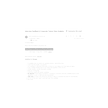

The dashboard page shown, as its layout file describes it:
{"tool":"powerbi","page":{"name":"Page 1","canvas":[1280,720],"ordinal":0},"visuals":[{"type":"group","id":"g1","title":"Group 2","box":[321.7,0,943.3,249.2],"z":0},{"type":"cardVisual","fields":{"Data":["Course.Total Courses"]},"box":[321.9,0,237.7,124.9],"z":0,"group":"g1"},{"type":"slicer","fields":{"Values":["Trainer.TrainerName"]},"box":[34.3,174.2,279.7,150],"z":0,"group":"g2"},{"type":"cardVisual","fields":{"Data":["Course.Total Mocks"]},"box":[549.9,0,238.4,124.9],"z":1000,"group":"g1"},{"type":"textbox","box":[25.4,36.9,296.2,50.9],"z":1000},{"type":"slicer","fields":{"Values":["Course.CourseName"]},"box":[34.3,339.5,279.7,255.5],"z":1000,"group":"g2"},{"type":"cardVisual","fields":{"Data":["Course.Trainer-Course Validated"]},"box":[788.3,0,238.4,124.9],"z":2000,"group":"g1"},{"type":"group","id":"g2","title":"Group 1","box":[34.3,174.2,279.7,507.3],"z":2000},{"type":"slicer","fields":{"Values":["TrainerCourseMapping.MappingStatus"]},"box":[34.3,610.3,279.7,71.2],"z":2000,"group":"g2"},{"type":"cardVisual","fields":{"Data":["Course.Avg Mocks per Trainer-Course"]},"box":[1026.7,0,238.4,124.9],"z":3000,"group":"g1"},{"type":"pivotTable","fields":{"Rows":["Trainer.TrainerName","Course.CourseName"],"Values":["Course.Total Mocks","Course.Latest Activity Type","Course.Latest Mock Summary"]},"box":[338.2,249.2,942.1,443.7],"z":3000},{"type":"cardVisual","fields":{"Data":["Course.Latest Mock Rating"]},"box":[321.7,124.6,943.3,124.6],"z":4000,"group":"g1"}]}

Visuals, with their boxes on the page's 1280x720 design canvas (x1, y1, x2, y2). These are canvas units, not pixel positions in the 108x108 screenshot, which may show the page scaled, cropped or inside an application window:
"Group 2" group: <box>322,0,1265,249</box>
cardVisual - Course.Total Courses: <box>322,0,560,125</box>
slicer - Trainer.TrainerName: <box>34,174,314,324</box>
cardVisual - Course.Total Mocks: <box>550,0,788,125</box>
textbox: <box>25,37,322,88</box>
slicer - Course.CourseName: <box>34,340,314,595</box>
cardVisual - Course.Trainer-Course Validated: <box>788,0,1027,125</box>
"Group 1" group: <box>34,174,314,682</box>
slicer - TrainerCourseMapping.MappingStatus: <box>34,610,314,682</box>
cardVisual - Course.Avg Mocks per Trainer-Course: <box>1027,0,1265,125</box>
pivotTable - Trainer.TrainerName x Course.CourseName: <box>338,249,1280,693</box>
cardVisual - Course.Latest Mock Rating: <box>322,125,1265,249</box>
